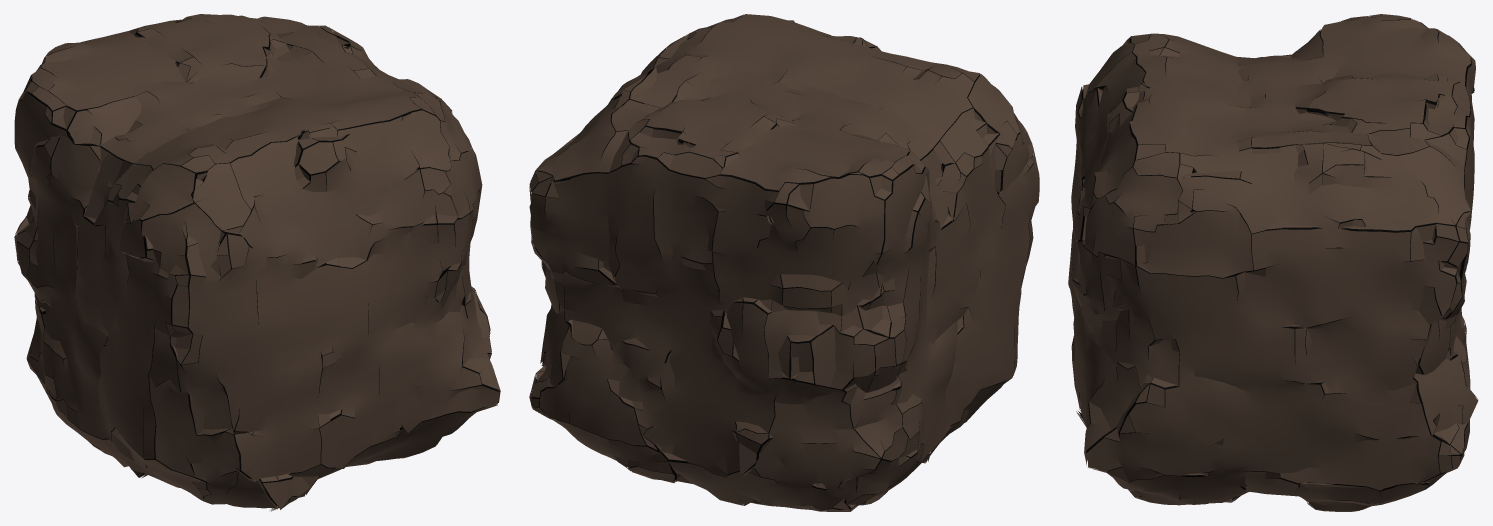
Rendered from claycube.fbx.
3 views of the same model, side by side, from view 1: azimuth 30°, elevation 25°; view 2: azimuth 150°, elevation 25°; view 3: azimuth 270°, elevation 25° (orthographic). The views are drawn at different scales.
Parts seen in each view (by area): view 1: Cube; view 2: Cube; view 3: Cube.
Boxes of the visible parts, x1,y1,x2,y2 form: Cube: [14, 14, 500, 511]; Cube: [529, 14, 1039, 511]; Cube: [1068, 14, 1478, 511].
Size of the model in its own units: 202 by 204 by 201.
